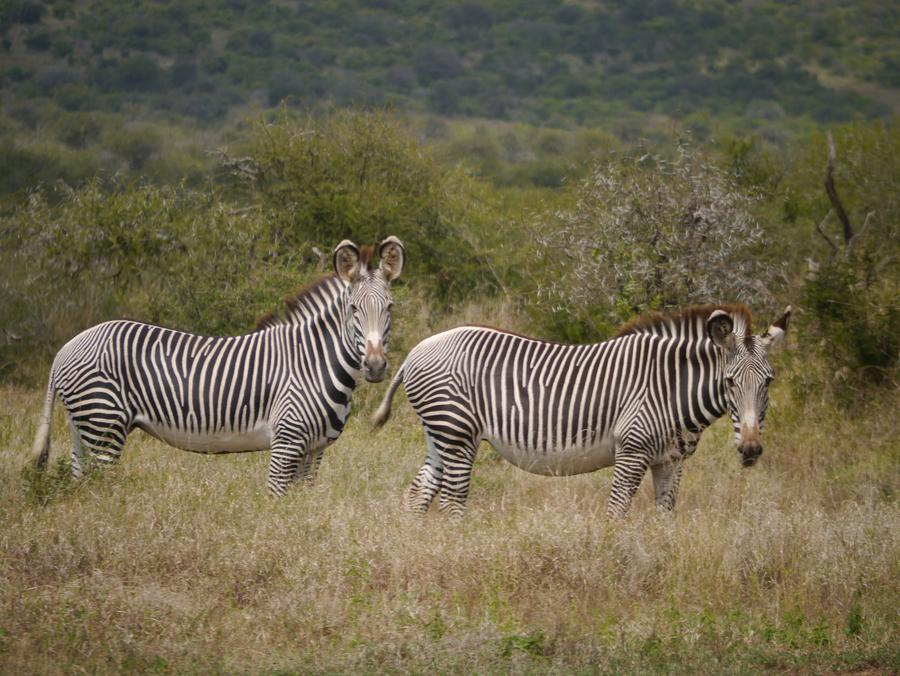zebra_grevys: (52, 308, 322, 454), (410, 312, 665, 466)
